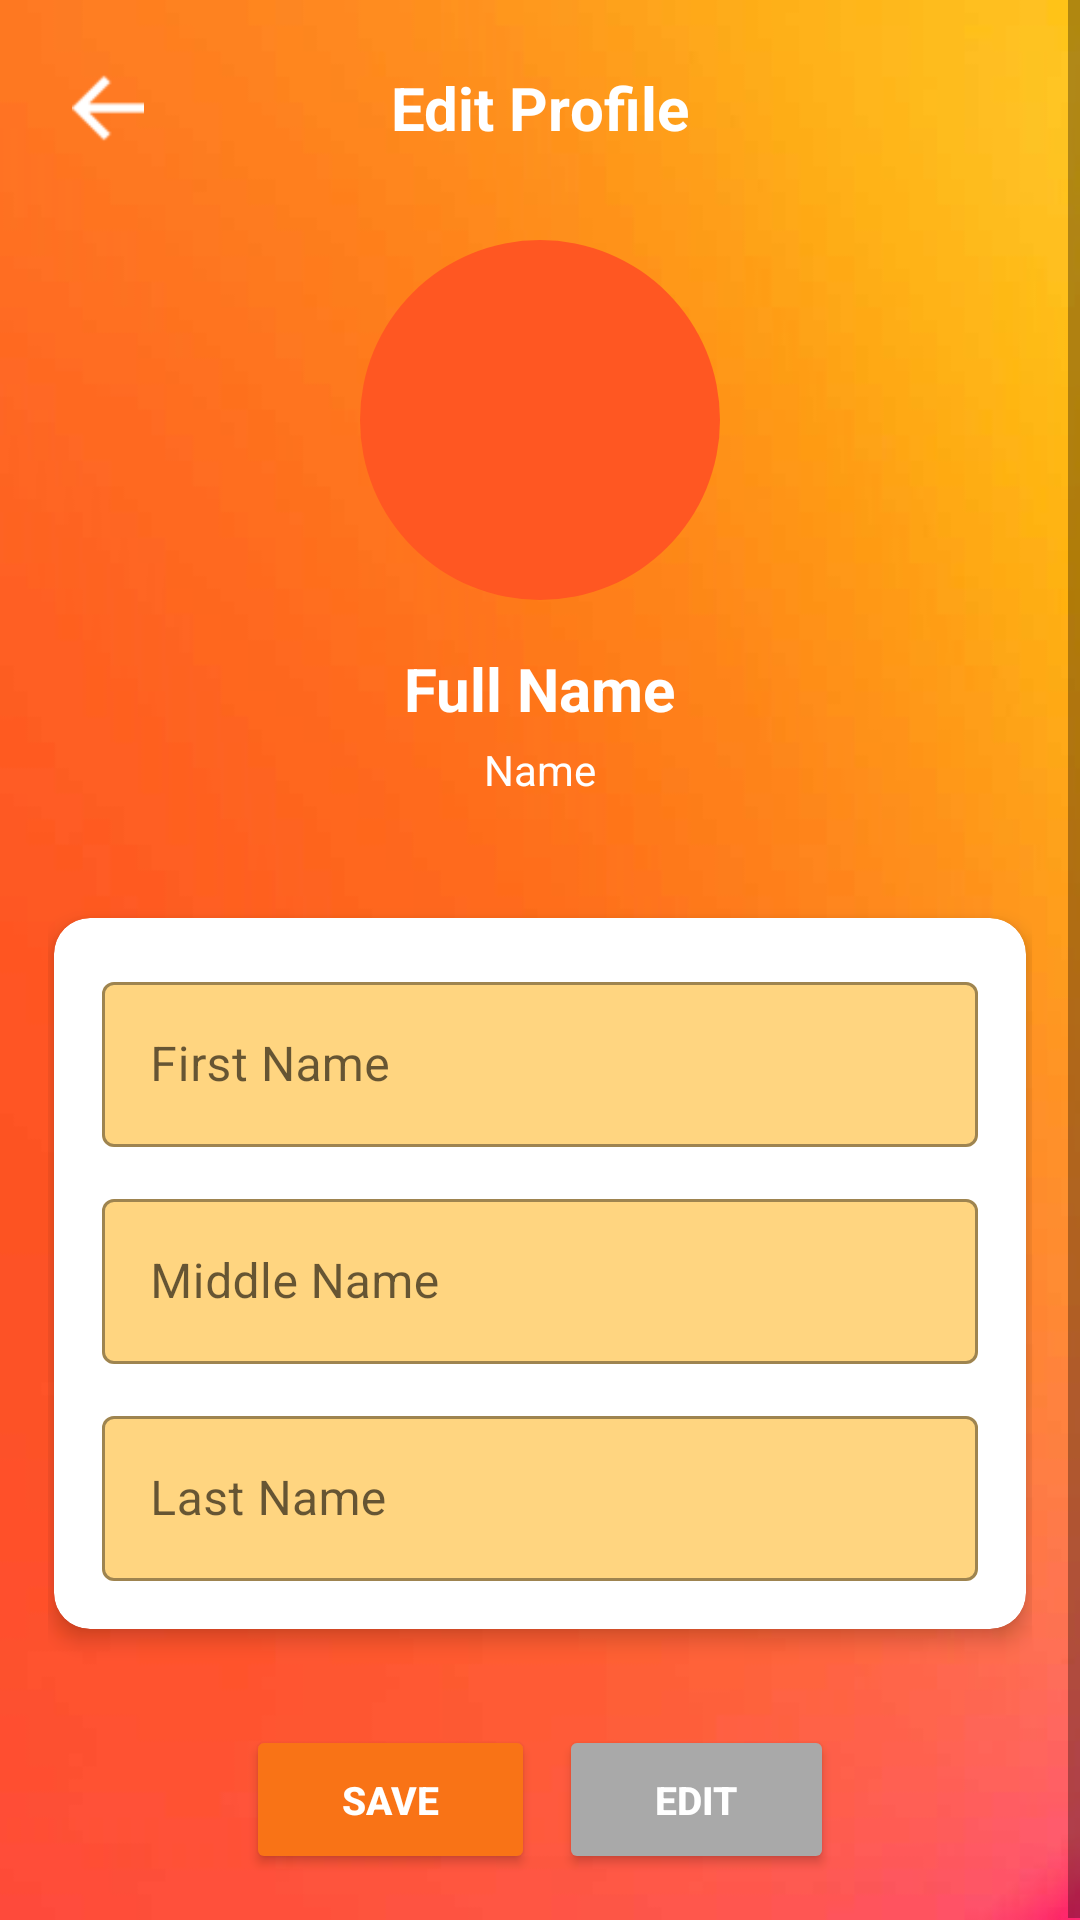

Screen size 1080×1920. Icon name, then its center in pixels as [x,y]:
Back button: [108,108]
